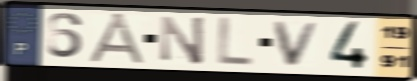4: (328, 19, 371, 72)
6: (46, 11, 85, 61)
A: (85, 11, 151, 66)
L: (215, 15, 256, 68)
N: (159, 14, 207, 67)
V: (271, 19, 324, 68)
